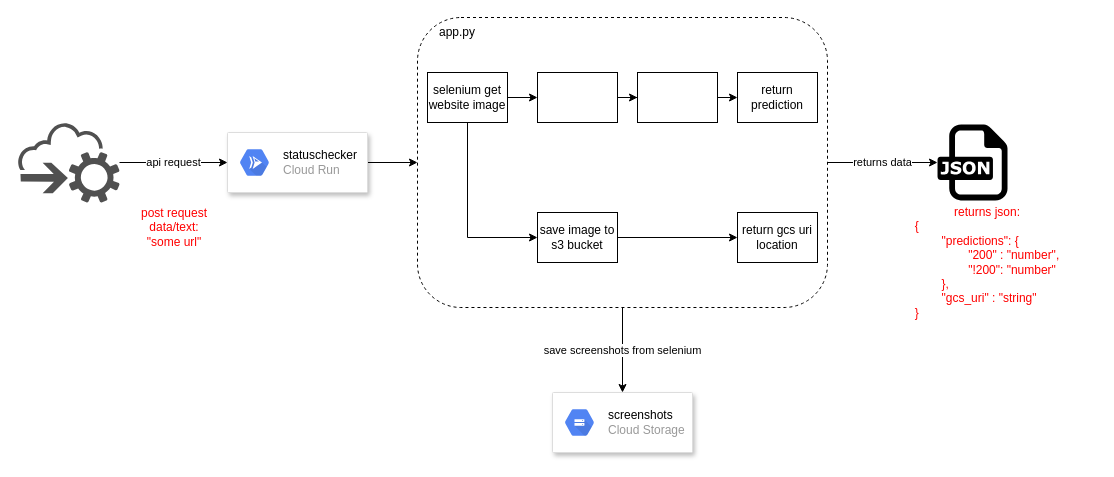
The diagram is 1114 pixels wide and 477 high, and some of its shapes have lost their labels. Each missing label, with the centre of its shape:
convert image to numpy array: the point at 577,97
input numpy image into model: the point at 677,97
